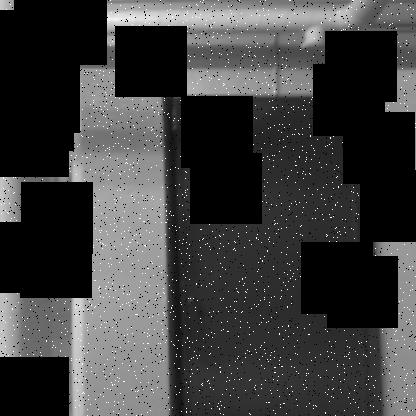Porte: (159, 91, 389, 415)
